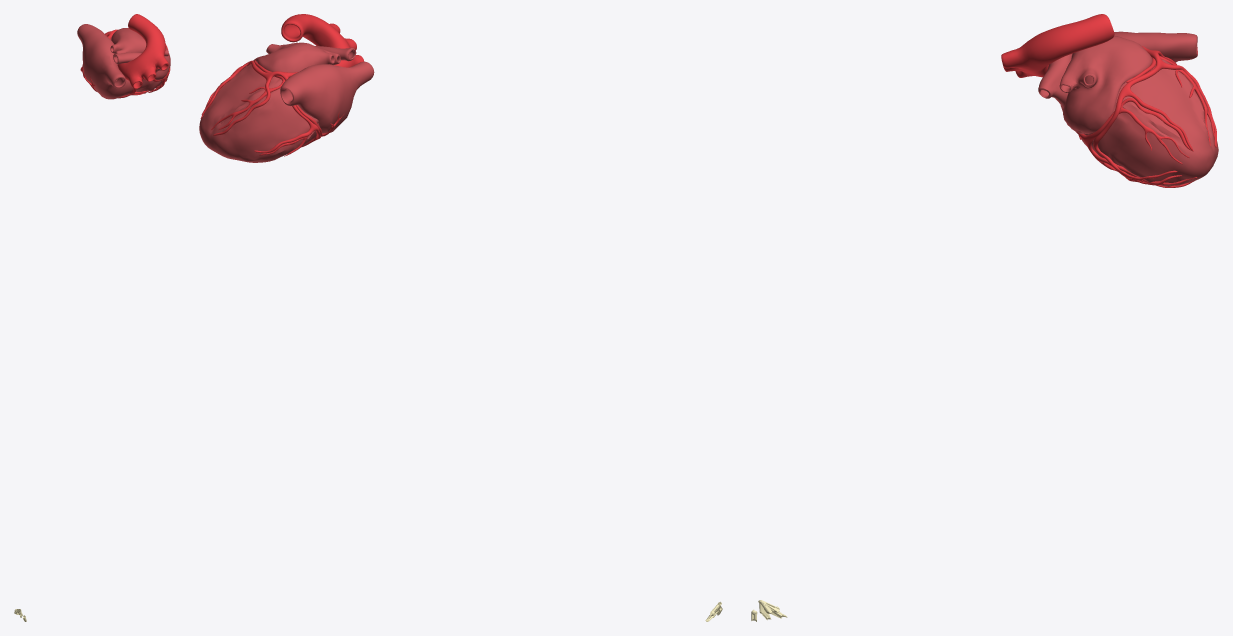
The model's file is Heart_Detailed.fbx.
3 views of the same model, side by side, from view 1: azimuth 30°, elevation 25°; view 2: azimuth 150°, elevation 25°; view 3: azimuth 270°, elevation 25° (orthographic). The views are drawn at different scales.
Visible parts, largest first — view 1: Right_Atrium, Ascending_Aorta, Left_Atrium, Right_Ventricle; view 2: Right_Ventricle, Right_Atrium, Ascending_Aorta, Left_Atrium, Coronary_Arteries_LAD_RCA, Pulmonary_Artery; view 3: Right_Ventricle, Left_Atrium, Ascending_Aorta, Pulmonary_Artery, Coronary_Arteries_LAD_RCA, Right_Atrium.
Part boxes in pixels (x1,y1,x2,y2): Right_Atrium: [77, 24, 133, 99]; Ascending_Aorta: [117, 14, 168, 88]; Left_Atrium: [110, 28, 170, 80]; Right_Ventricle: [83, 38, 166, 95]; Right_Ventricle: [199, 46, 356, 162]; Right_Atrium: [280, 61, 374, 133]; Ascending_Aorta: [281, 14, 364, 67]; Left_Atrium: [253, 42, 340, 72]; Coronary_Arteries_LAD_RCA: [201, 60, 320, 153]; Pulmonary_Artery: [200, 60, 343, 156]; Right_Ventricle: [1038, 53, 1218, 186]; Left_Atrium: [1059, 36, 1152, 133]; Ascending_Aorta: [1001, 14, 1114, 77]; Pulmonary_Artery: [1076, 55, 1214, 187]; Coronary_Arteries_LAD_RCA: [1078, 46, 1216, 182]; Right_Atrium: [1114, 31, 1197, 62].
Bounding box in the file's own units: 13.43 × 23.03 × 12.5.
